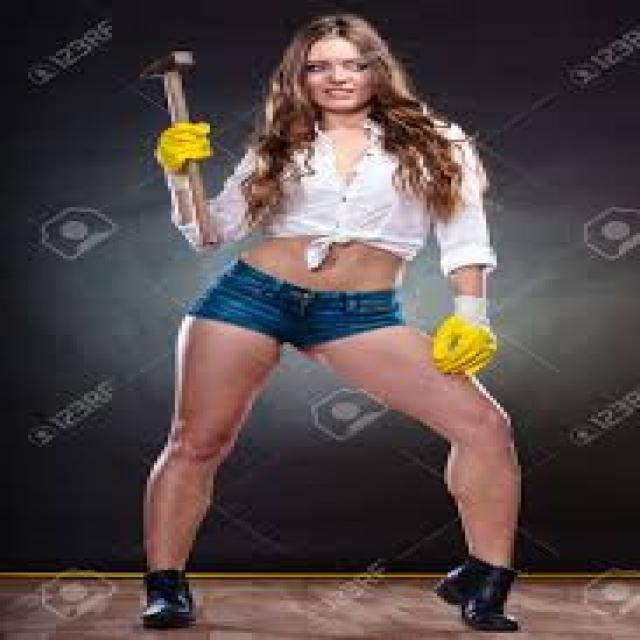hammer: (132, 44, 262, 254)
